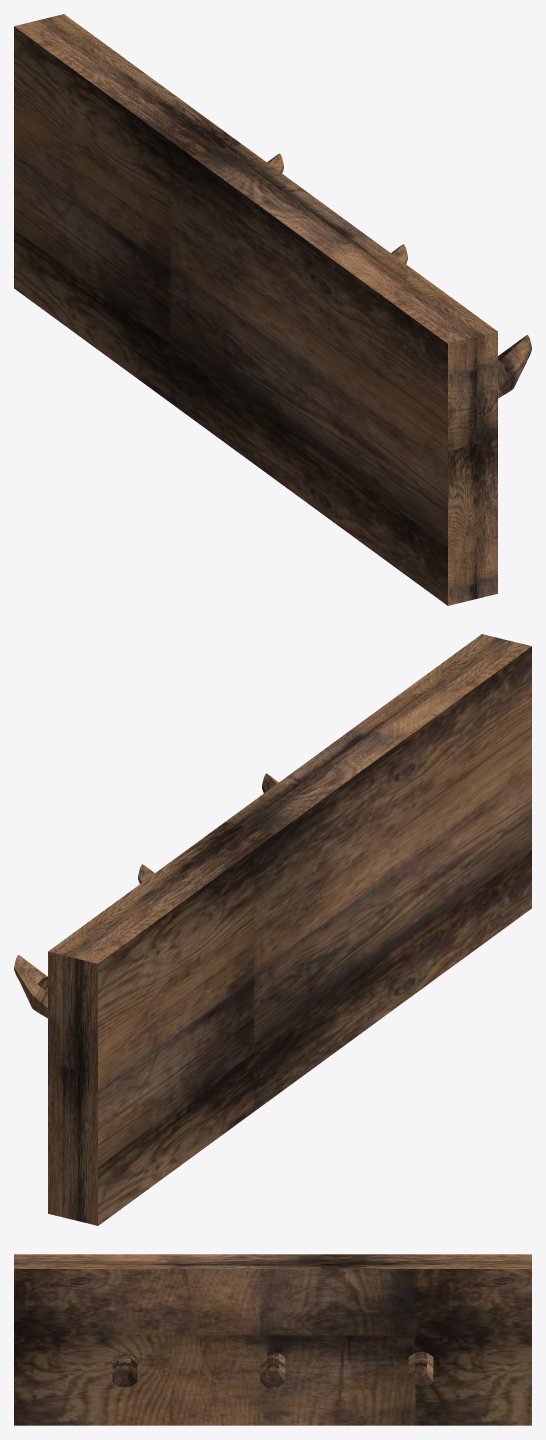
The model's file is key_rack.fbx.
The picture shows the model from 3 angles, top to bottom: view 1: azimuth 30°, elevation 25°; view 2: azimuth 150°, elevation 25°; view 3: azimuth 270°, elevation 25°; orthographic projection. The views are drawn at different scales.
Parts seen in each view (by area): view 1: Cube; view 2: Cube; view 3: Cube.
Part boxes in pixels (x1=…): Cube: x1=14, y1=14, x2=531, y2=605; Cube: x1=14, y1=634, x2=531, y2=1225; Cube: x1=14, y1=1254, x2=531, y2=1425.
Bounding box in the file's own units: 69.06 × 100 × 300.
1 material, 1 textured.
